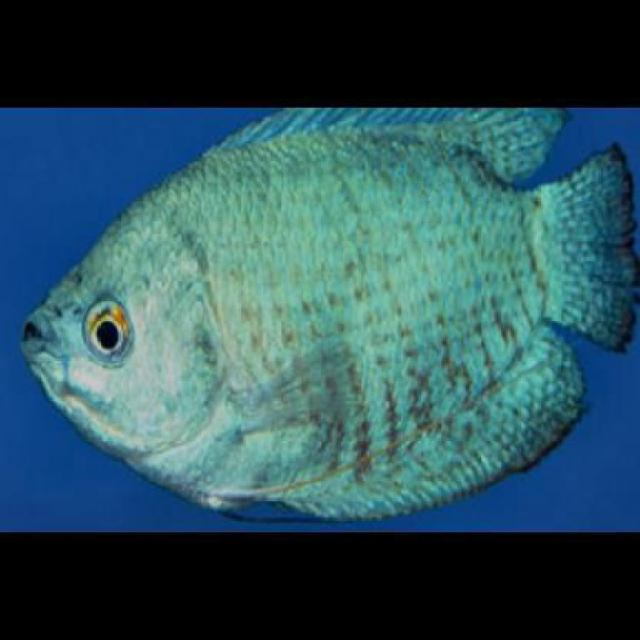Gourami: (19, 105, 638, 526)
